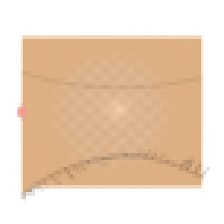hemorrhage_spot: (60, 54, 161, 136)
